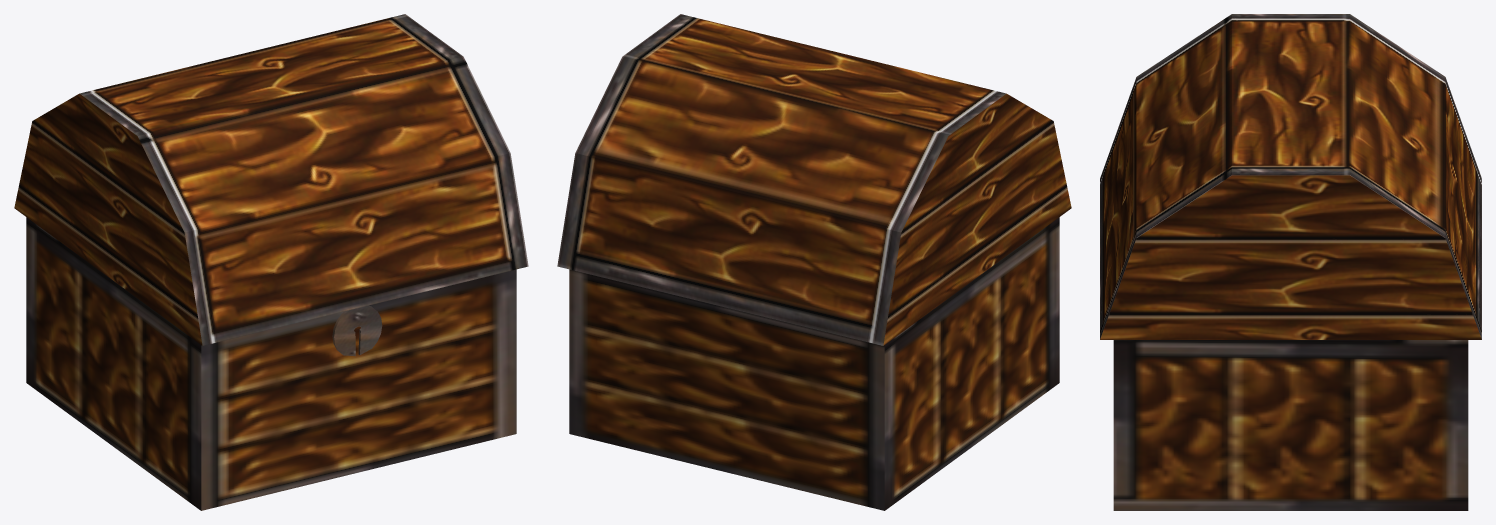
File: Treasure_Chest.fbx
3 renders of one model, left to right at view 1: azimuth 30°, elevation 25°; view 2: azimuth 150°, elevation 25°; view 3: azimuth 270°, elevation 25°, orthographic.
Visible parts, largest first — view 1: Treasure_Chest_; view 2: Treasure_Chest_; view 3: Treasure_Chest_.
Part boxes in pixels (bbox=[...]): Treasure_Chest_: bbox=[14, 14, 528, 510]; Treasure_Chest_: bbox=[557, 14, 1071, 510]; Treasure_Chest_: bbox=[1100, 14, 1481, 510].
Bounding box in the file's own units: 4 × 3.91 × 4.
1 material, 1 textured.
